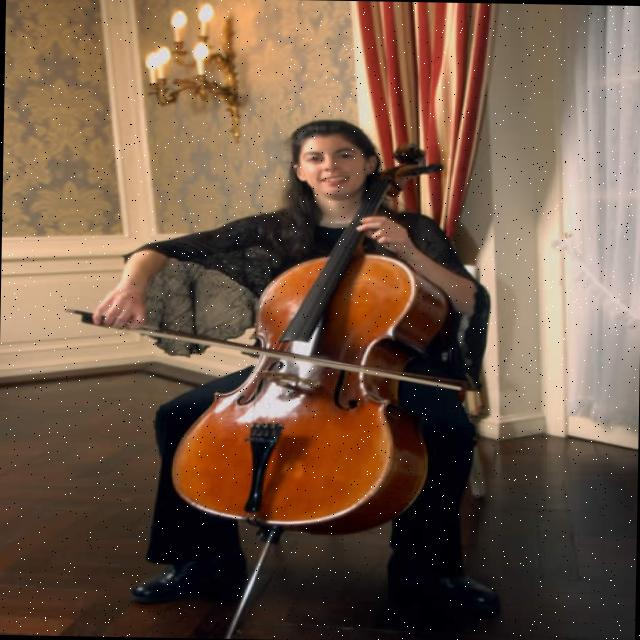cello: (163, 140, 484, 542)
